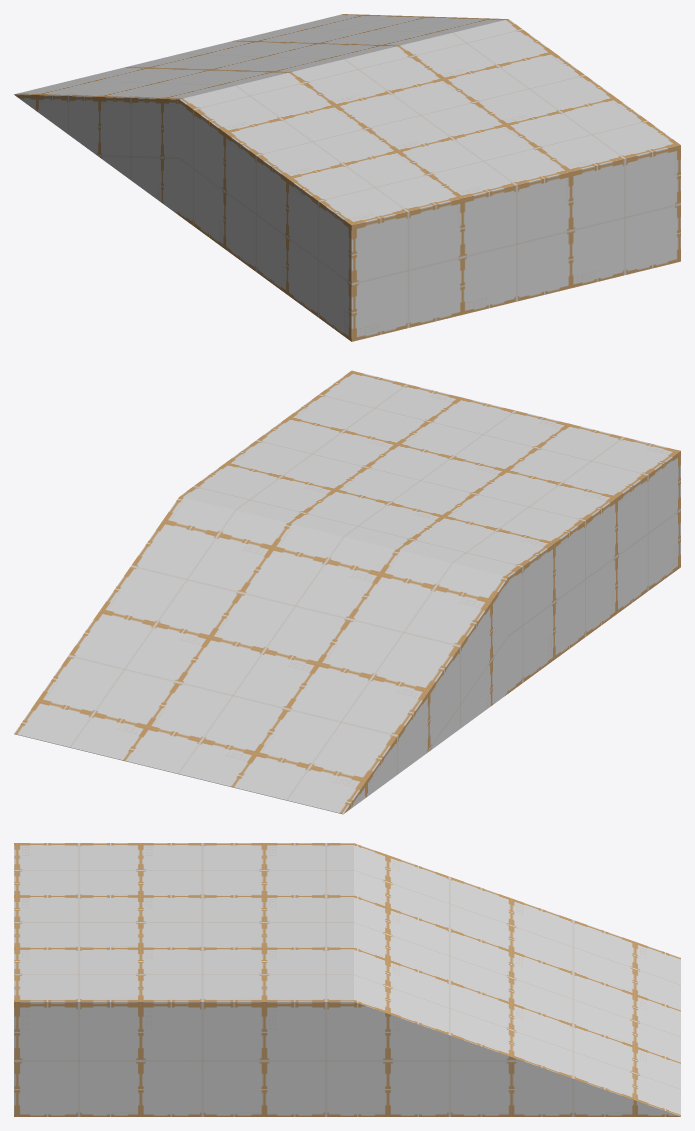
The model's file is PlatUp.fbx.
The picture shows the model from 3 angles, top to bottom: view 1: azimuth 30°, elevation 25°; view 2: azimuth 150°, elevation 25°; view 3: azimuth 270°, elevation 25°; orthographic projection.
Parts seen in each view (by area): view 1: Куб; view 2: Куб; view 3: Куб.
Part boxes in pixels (box(x1,y1,x2,y2)): Куб: box(14, 14, 680, 341); Куб: box(14, 370, 680, 814); Куб: box(14, 843, 680, 1116).
Size of the model in its own units: 531 by 180 by 943.
